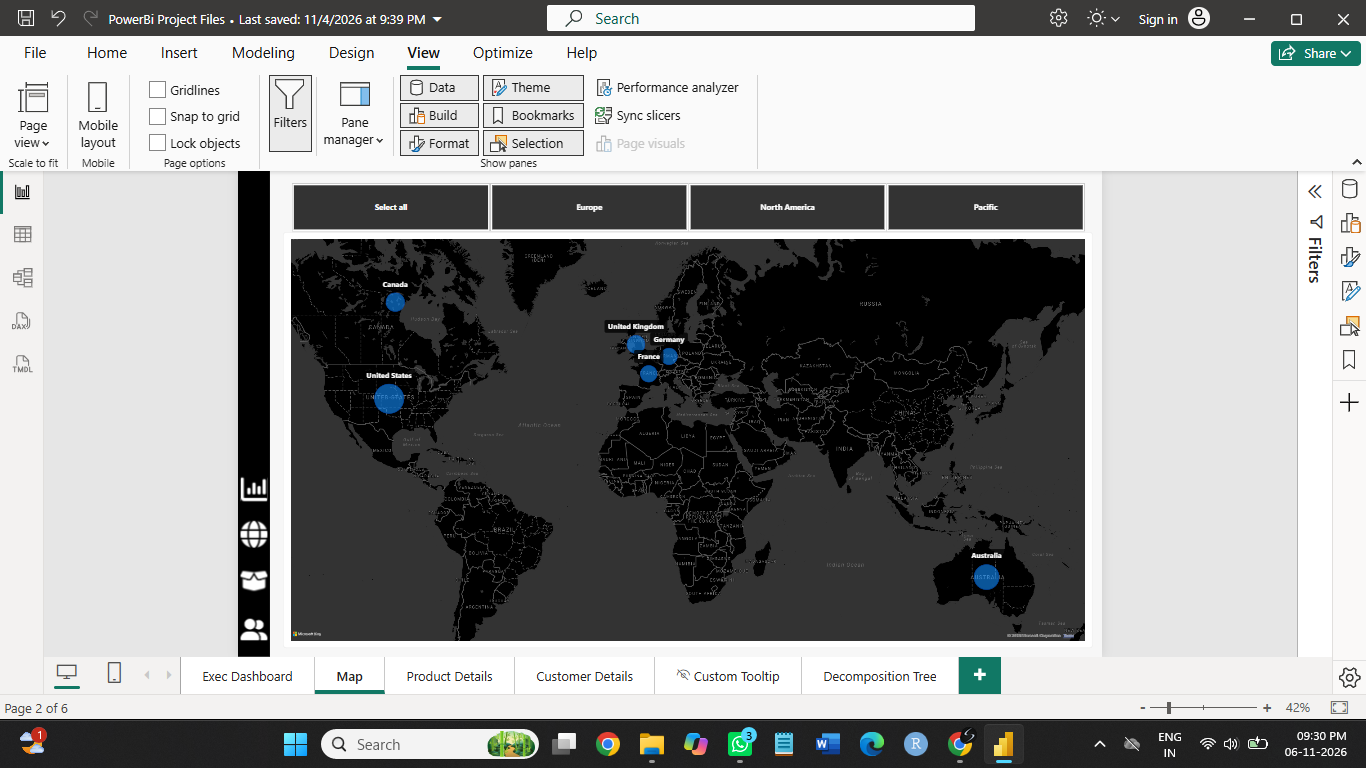

This screenshot's page, from the dashboard's own definition file:
{"tool":"powerbi","page":{"name":"Map","canvas":[1920,1080],"ordinal":1},"visuals":[{"type":"shape","box":[0,0,71.4,1080.2],"z":0},{"type":"actionButton","box":[0,663.8,71.4,88],"z":0,"group":"g1"},{"type":"map","fields":{"Category":["Territory Lookup.Country"],"Size":["Measure Table.Total Orders"]},"box":[99.9,135.6,1801.1,925.5],"z":1000},{"type":"actionButton","box":[0,768.5,71.4,78.5],"z":1000,"group":"g1"},{"type":"slicer","fields":{"Values":["Territory Lookup.Continent"]},"box":[99.9,26.2,1801.1,109.4],"z":2000},{"type":"actionButton","box":[0,863.7,71.4,95.2],"z":2000,"group":"g1"},{"type":"group","id":"g1","title":"Navigation Buttons","box":[0,663.8,71.4,399.7],"z":3000},{"type":"actionButton","box":[0,975.5,71.4,88],"z":3000,"group":"g1"}]}

Visuals, with their boxes on the page's 1920x1080 design canvas (x1, y1, x2, y2). These are canvas units, not pixel positions in the 1366x768 screenshot, which may show the page scaled, cropped or inside an application window:
shape: region(0, 0, 71, 1080)
actionButton: region(0, 664, 71, 752)
map - Territory Lookup.Country x Measure Table.Total Orders: region(100, 136, 1901, 1061)
actionButton: region(0, 768, 71, 847)
slicer - Territory Lookup.Continent: region(100, 26, 1901, 136)
actionButton: region(0, 864, 71, 959)
"Navigation Buttons" group: region(0, 664, 71, 1064)
actionButton: region(0, 976, 71, 1064)
